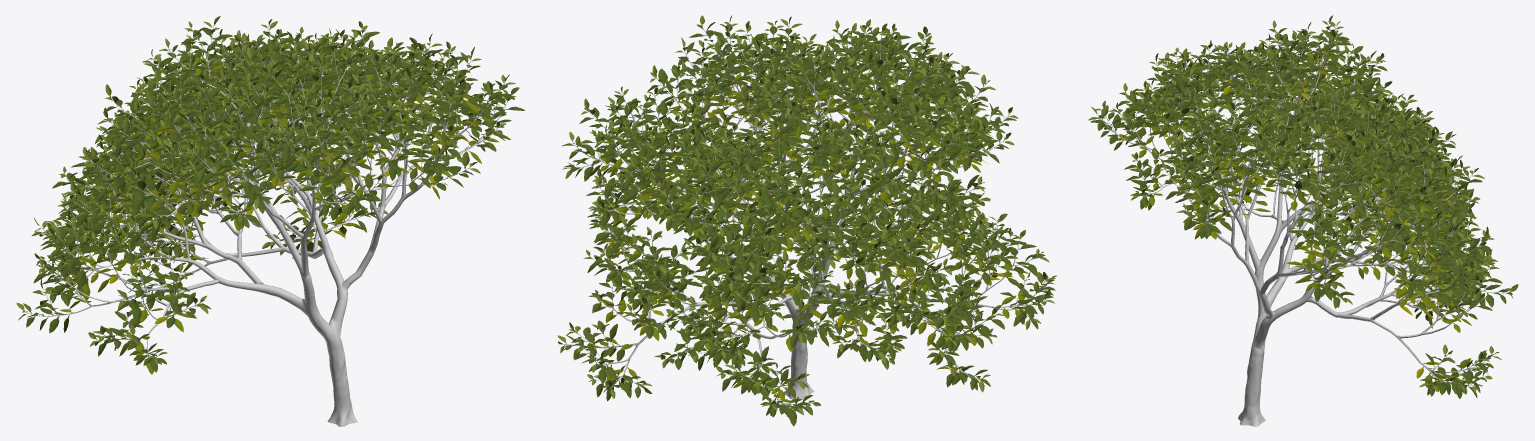
The model's file is Citrus_orange_3m_mix.obj.
The picture shows the model from 3 angles, left to right: view 1: azimuth 30°, elevation 25°; view 2: azimuth 150°, elevation 25°; view 3: azimuth 270°, elevation 25°; orthographic projection. The views are drawn at different scales.
Parts seen in each view (by area): view 1: Citrus_aurant_leaf_01, Citrus_aurant_leaf_04, Citrus_aurantium_bark, Citrus_aurant_leaf_01_y1, Citrus_aurant_leaf_02, Citrus_aurantium_twig, Citrus_aurant_leaf_01_y2, Citrus_aurant_leaf_03; view 2: Citrus_aurant_leaf_01, Citrus_aurant_leaf_04, Citrus_aurant_leaf_01_y1, Citrus_aurant_leaf_02, Citrus_aurantium_bark, Citrus_aurantium_twig, Citrus_aurant_leaf_03, Citrus_aurant_leaf_01_y2; view 3: Citrus_aurant_leaf_01, Citrus_aurant_leaf_04, Citrus_aurantium_bark, Citrus_aurant_leaf_01_y1, Citrus_aurant_leaf_02, Citrus_aurantium_twig, Citrus_aurant_leaf_03, Citrus_aurant_leaf_01_y2.
Part boxes in pixels (<box>): Citrus_aurant_leaf_01: <box>26,27,524,372</box>; Citrus_aurant_leaf_04: <box>16,16,519,364</box>; Citrus_aurantium_bark: <box>56,56,486,426</box>; Citrus_aurant_leaf_01_y1: <box>57,57,498,374</box>; Citrus_aurant_leaf_02: <box>23,27,510,356</box>; Citrus_aurantium_twig: <box>27,27,507,357</box>; Citrus_aurant_leaf_01_y2: <box>60,69,468,324</box>; Citrus_aurant_leaf_03: <box>45,43,502,291</box>; Citrus_aurant_leaf_01: <box>563,23,1055,426</box>; Citrus_aurant_leaf_04: <box>557,15,1056,414</box>; Citrus_aurant_leaf_01_y1: <box>586,58,1028,402</box>; Citrus_aurant_leaf_02: <box>564,22,1054,415</box>; Citrus_aurantium_bark: <box>597,58,1021,403</box>; Citrus_aurantium_twig: <box>564,24,1048,406</box>; Citrus_aurant_leaf_03: <box>561,41,997,369</box>; Citrus_aurant_leaf_01_y2: <box>612,56,1012,373</box>; Citrus_aurant_leaf_01: <box>1090,30,1507,398</box>; Citrus_aurant_leaf_04: <box>1088,15,1518,391</box>; Citrus_aurantium_bark: <box>1115,53,1480,426</box>; Citrus_aurant_leaf_01_y1: <box>1117,50,1475,391</box>; Citrus_aurant_leaf_02: <box>1101,26,1510,384</box>; Citrus_aurantium_twig: <box>1098,24,1506,385</box>; Citrus_aurant_leaf_03: <box>1120,40,1512,303</box>; Citrus_aurant_leaf_01_y2: <box>1139,64,1449,378</box>.
Size of what is drawn, in the model's own units: 3.73 by 2.99 by 3.3.
